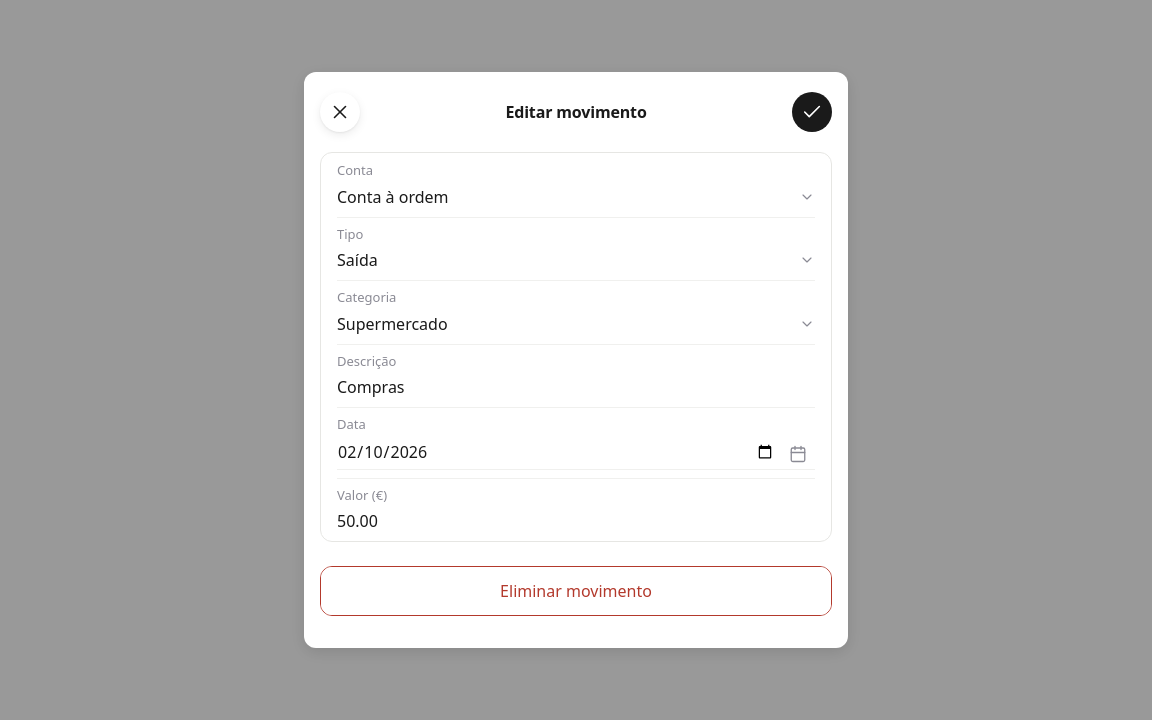
it: Página Editar movimento › se guardar falhar, mostra o erro dentro do formulário (que continua aberto)
Expected: the field labelled "Descrição" is shown, [337,375,815,399]
Click the button named "Guardar alterações".
click(812, 112)  # box [792,92,832,132]
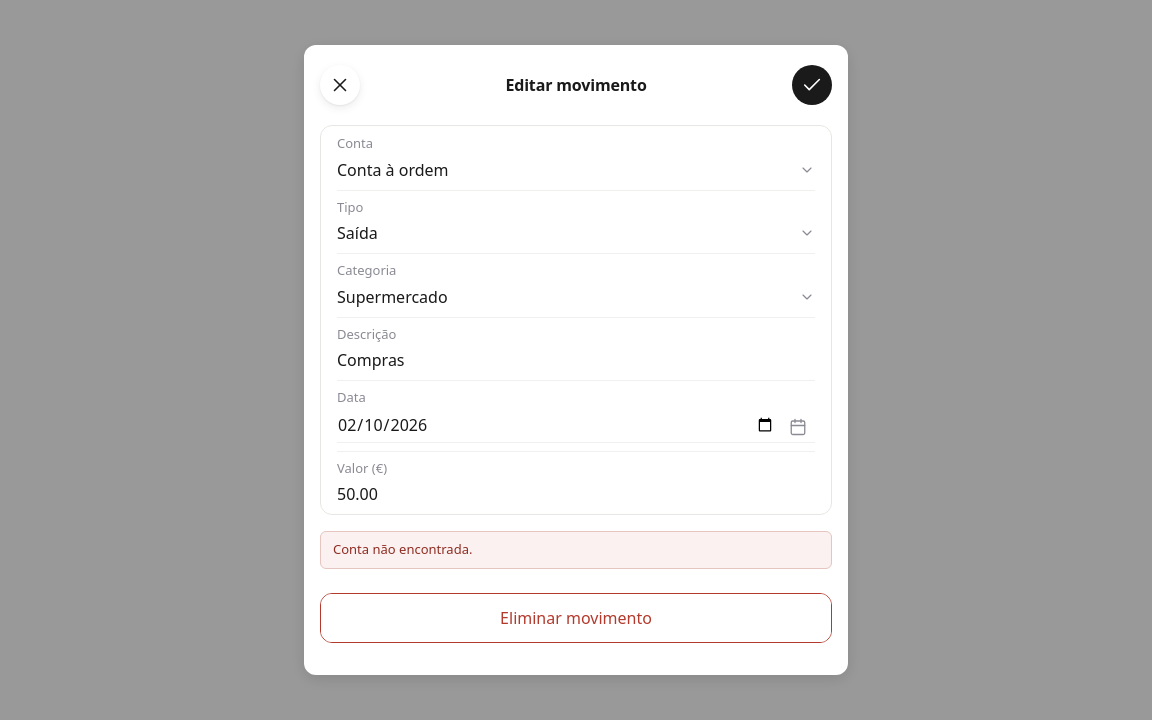
Expected: the dialog "Editar movimento" is shown, [304,45,848,675]
Result: the text "Conta não encontrada." is shown at [320,531,832,569]
